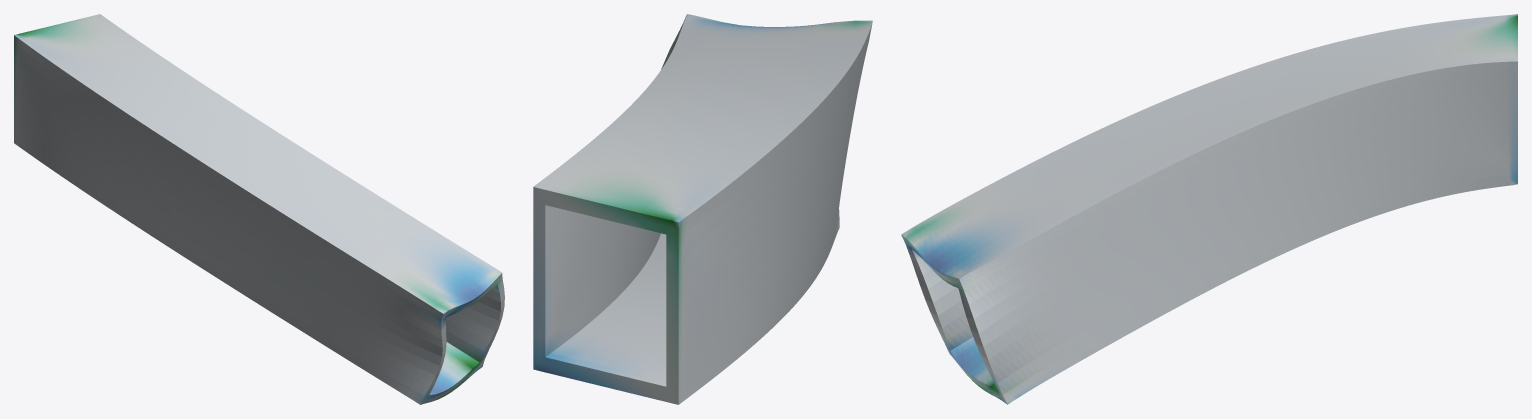
The model's file is hexa.glb.
3 renders of one model, left to right at view 1: azimuth 30°, elevation 25°; view 2: azimuth 150°, elevation 25°; view 3: azimuth 270°, elevation 25°, orthographic. The views are drawn at different scales.
Bounding box in the file's own units: 58.62 × 51.37 × 109.
